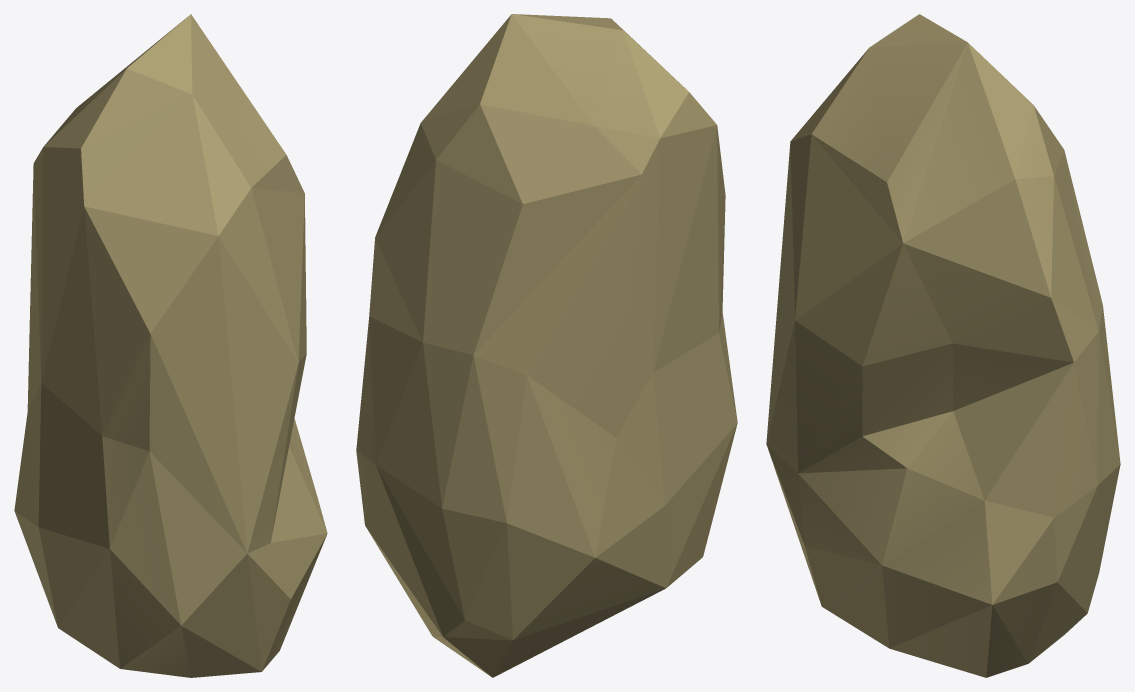
The model's file is SM_small_rock_34.fbx.
The picture shows the model from 3 angles, left to right: view 1: azimuth 30°, elevation 25°; view 2: azimuth 150°, elevation 25°; view 3: azimuth 270°, elevation 25°; orthographic projection. The views are drawn at different scales.
Parts seen in each view (by area): view 1: small_rock_34; view 2: small_rock_34; view 3: small_rock_34.
Part boxes in pixels (x1,y1,x2,y2): small_rock_34: (14,14,327,677); small_rock_34: (356,14,737,677); small_rock_34: (766,14,1120,677).
Bounding box in the file's own units: 66.78 × 138 × 72.38.
